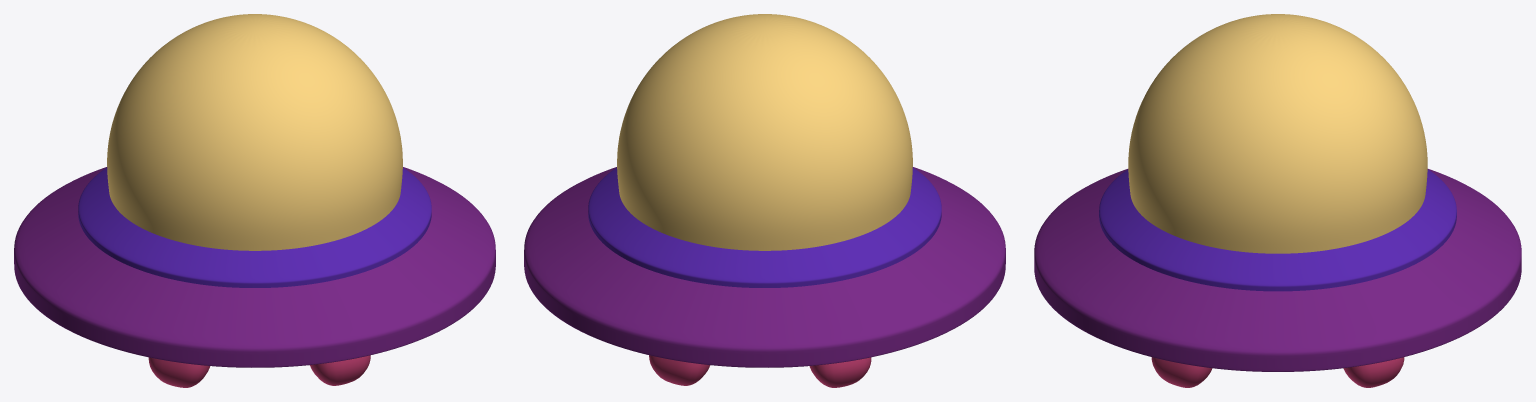
File: alienship.fbx
The picture shows the model from 3 angles, left to right: view 1: azimuth 30°, elevation 25°; view 2: azimuth 150°, elevation 25°; view 3: azimuth 270°, elevation 25°; orthographic projection.
Visible parts, largest first — view 1: Sphere.014, Sphere.013, Sphere.016, Sphere.015; view 2: Sphere.014, Sphere.013, Sphere.016, Sphere.015; view 3: Sphere.014, Sphere.013, Sphere.016, Sphere.015.
Boxes of the visible parts, x1,y1,x2,y2 form: Sphere.014: (107, 14, 402, 250); Sphere.013: (14, 167, 495, 367); Sphere.016: (78, 167, 431, 287); Sphere.015: (148, 355, 370, 387); Sphere.014: (617, 14, 912, 250); Sphere.013: (524, 167, 1005, 367); Sphere.016: (588, 167, 941, 287); Sphere.015: (649, 355, 871, 387); Sphere.014: (1128, 14, 1427, 253); Sphere.013: (1034, 169, 1521, 371); Sphere.016: (1099, 169, 1456, 291); Sphere.015: (1151, 357, 1404, 387).
Bounding box in the file's own units: 448 × 301 × 448.
